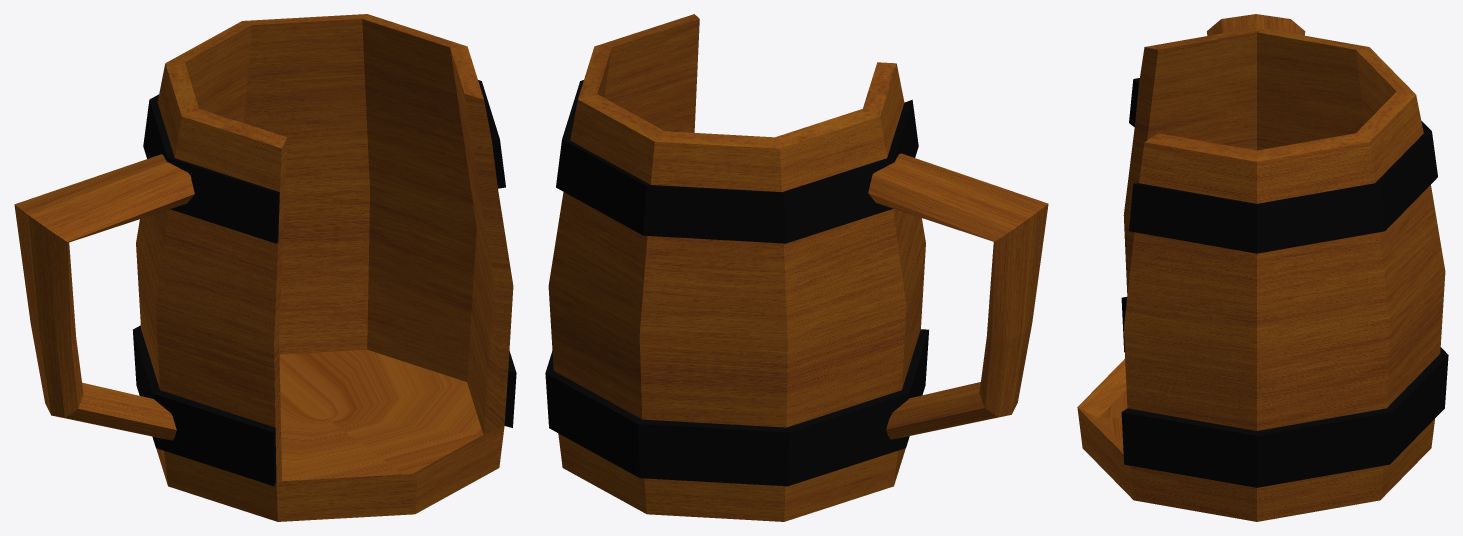
File: beermug_cross_section_L.fbx
3 renders of one model, left to right at view 1: azimuth 30°, elevation 25°; view 2: azimuth 150°, elevation 25°; view 3: azimuth 270°, elevation 25°, orthographic. The views are drawn at different scales.
Parts seen in each view (by area): view 1: pCylinder2; view 2: pCylinder2; view 3: pCylinder2.
Part boxes in pixels (<box>): pCylinder2: <box>14,14,516,521</box>; pCylinder2: <box>545,14,1048,521</box>; pCylinder2: <box>1077,14,1448,521</box>.
Bounding box in the file's own units: 3.32 × 2.51 × 2.36.
